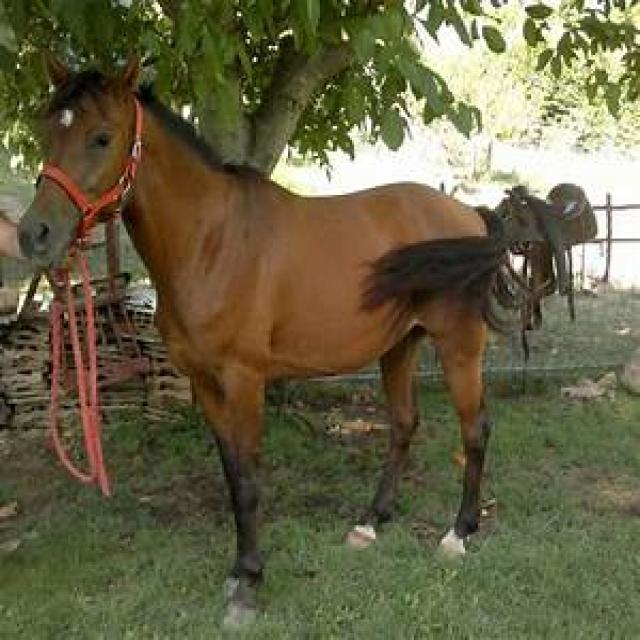horse: (0, 55, 597, 629)
